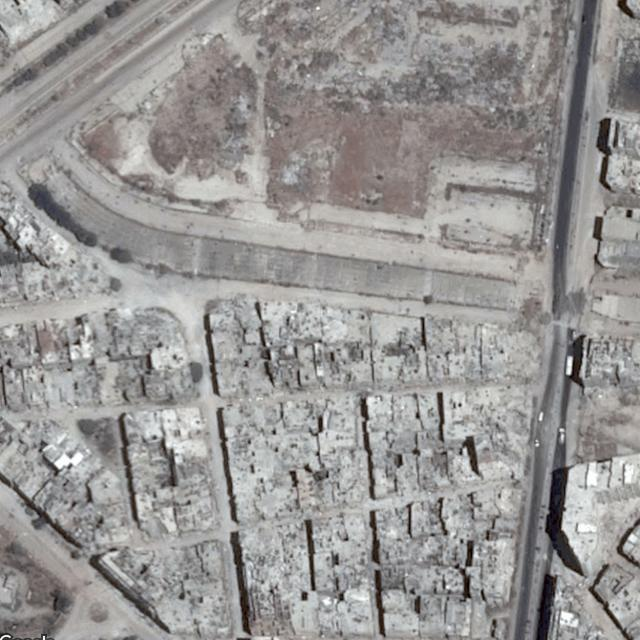damaged_building: (210, 296, 370, 398), (96, 539, 230, 632), (0, 228, 110, 305), (424, 312, 534, 380), (238, 518, 310, 602), (108, 309, 186, 359)
